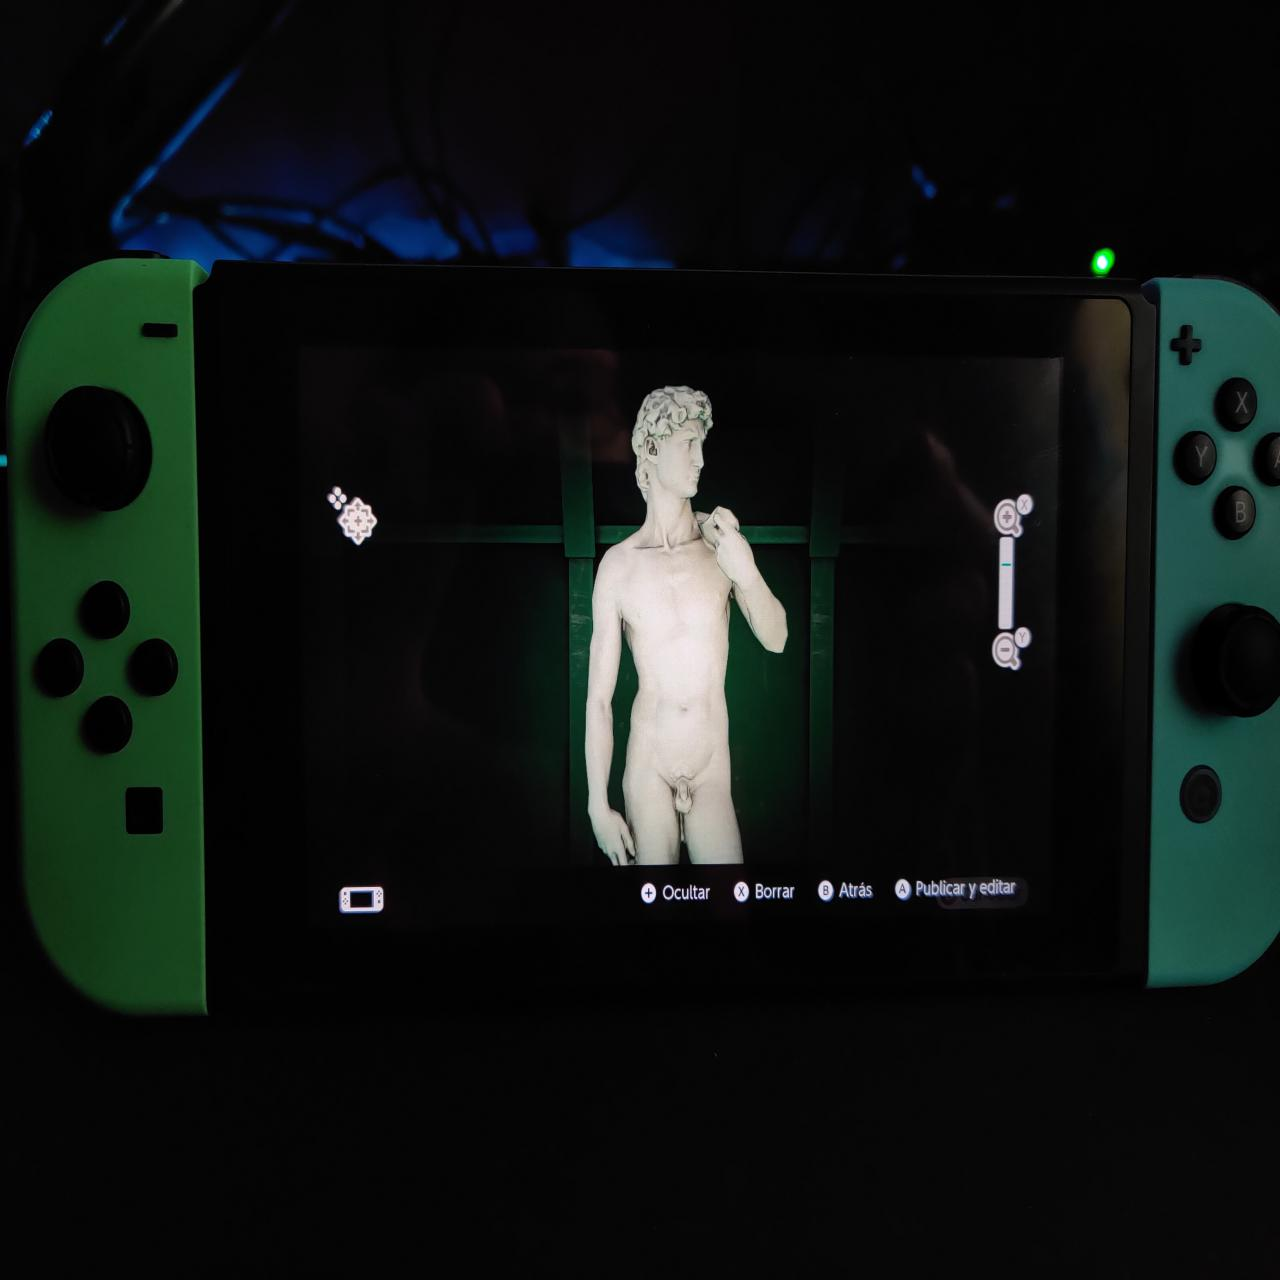David: (583, 377, 799, 864)
